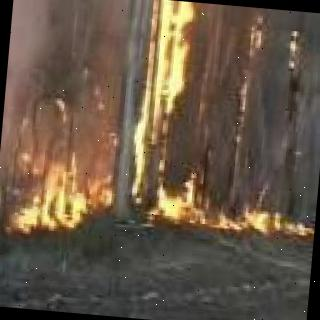fire: (6, 133, 316, 249), (137, 0, 194, 114), (233, 6, 270, 126), (286, 20, 306, 84)
